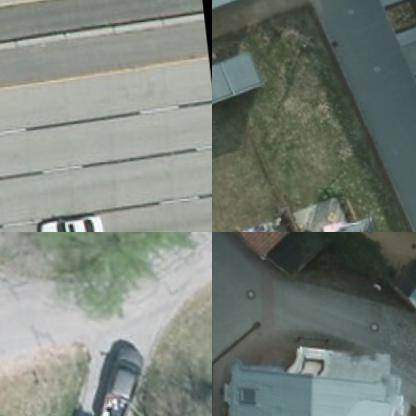car: (34, 200, 103, 231)
pickup: (88, 325, 146, 415)
